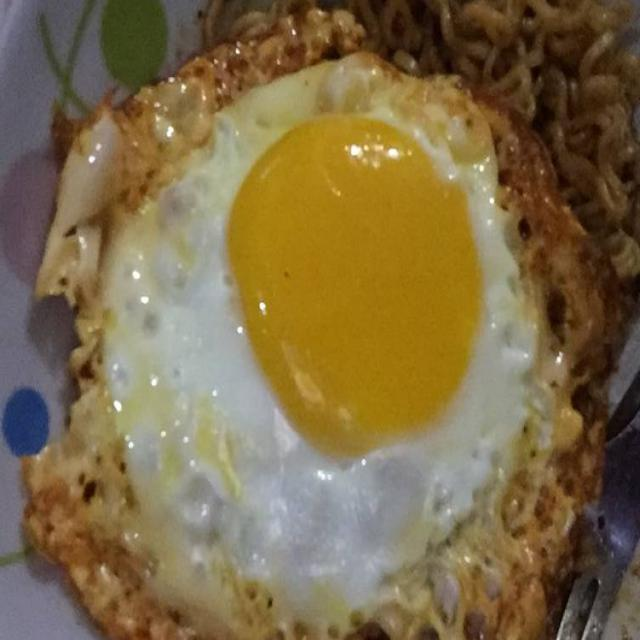Fried Egg: (121, 59, 544, 603)
